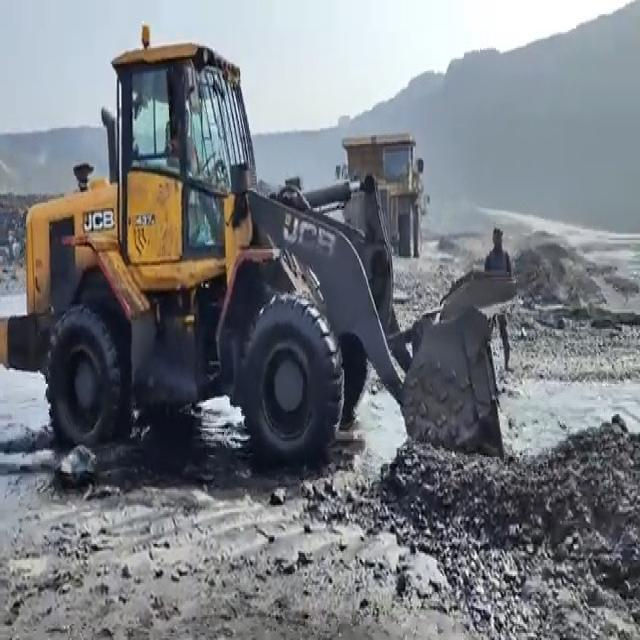buldozerpayloadergrader: (17, 39, 509, 472)
dump_truck: (339, 132, 425, 252)
